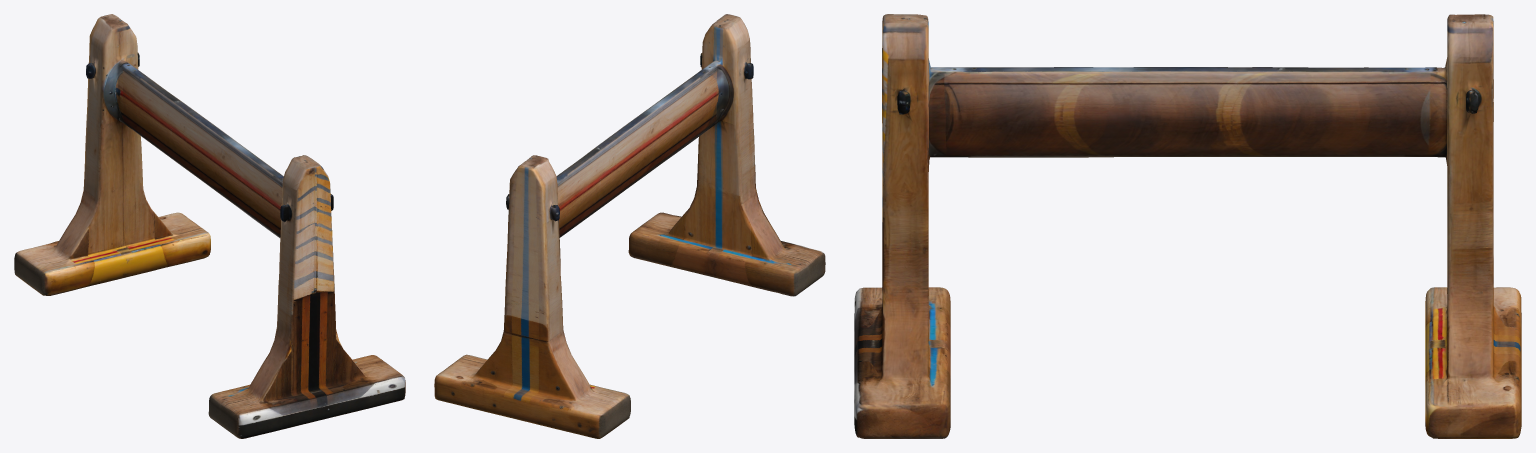
The picture shows the model from 3 angles, left to right: view 1: azimuth 30°, elevation 25°; view 2: azimuth 150°, elevation 25°; view 3: azimuth 270°, elevation 25°; orthographic projection. The views are drawn at different scales.
Size of the model in its own units: 0.8605 by 1.2 by 2.
Materials: 1 (1 with a texture image).
